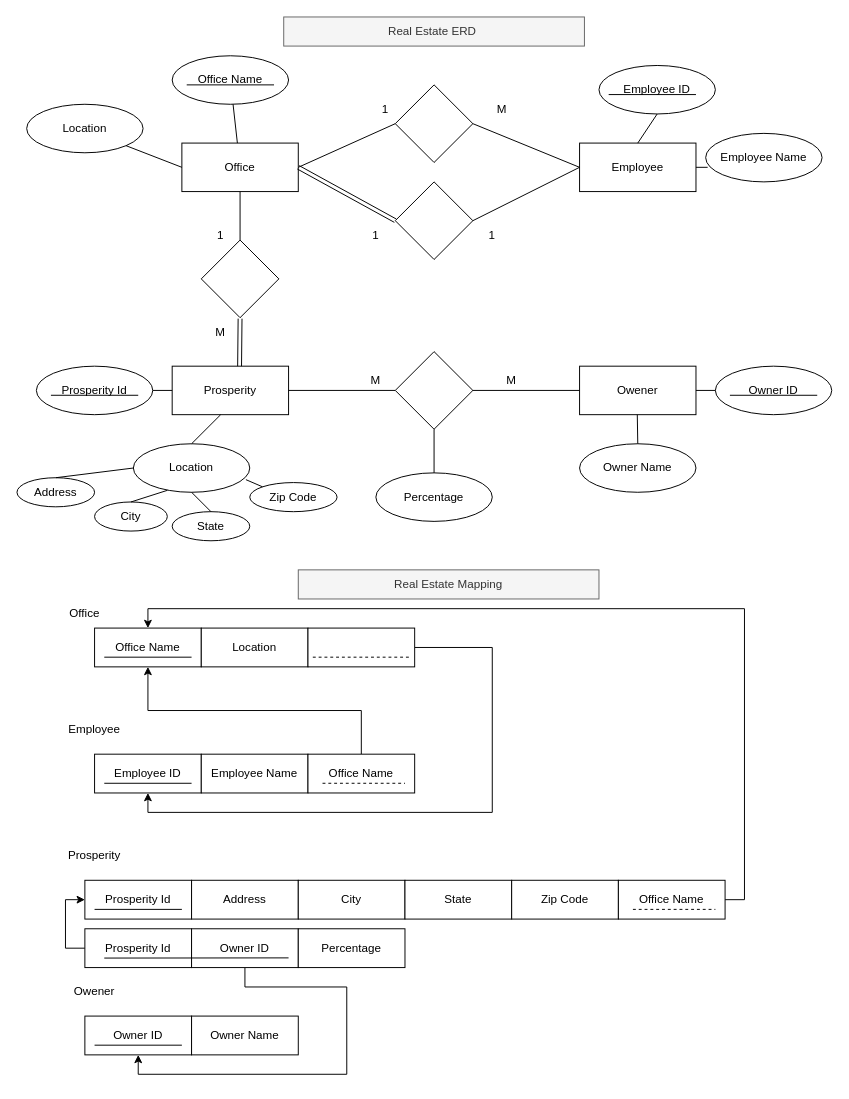
This 849x1099 diagram has some shape labels left out. Each missing label, with the centre of its shape:
Assign: (433,123)
List: (239,278)
Manage: (433,220)
Manager ID: (361,647)
Own: (433,390)
